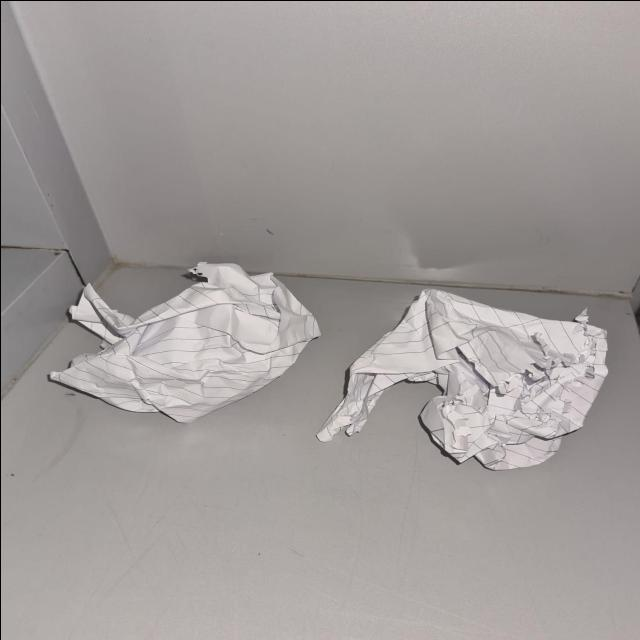kertas: (328, 294, 620, 463), (45, 264, 322, 418)
